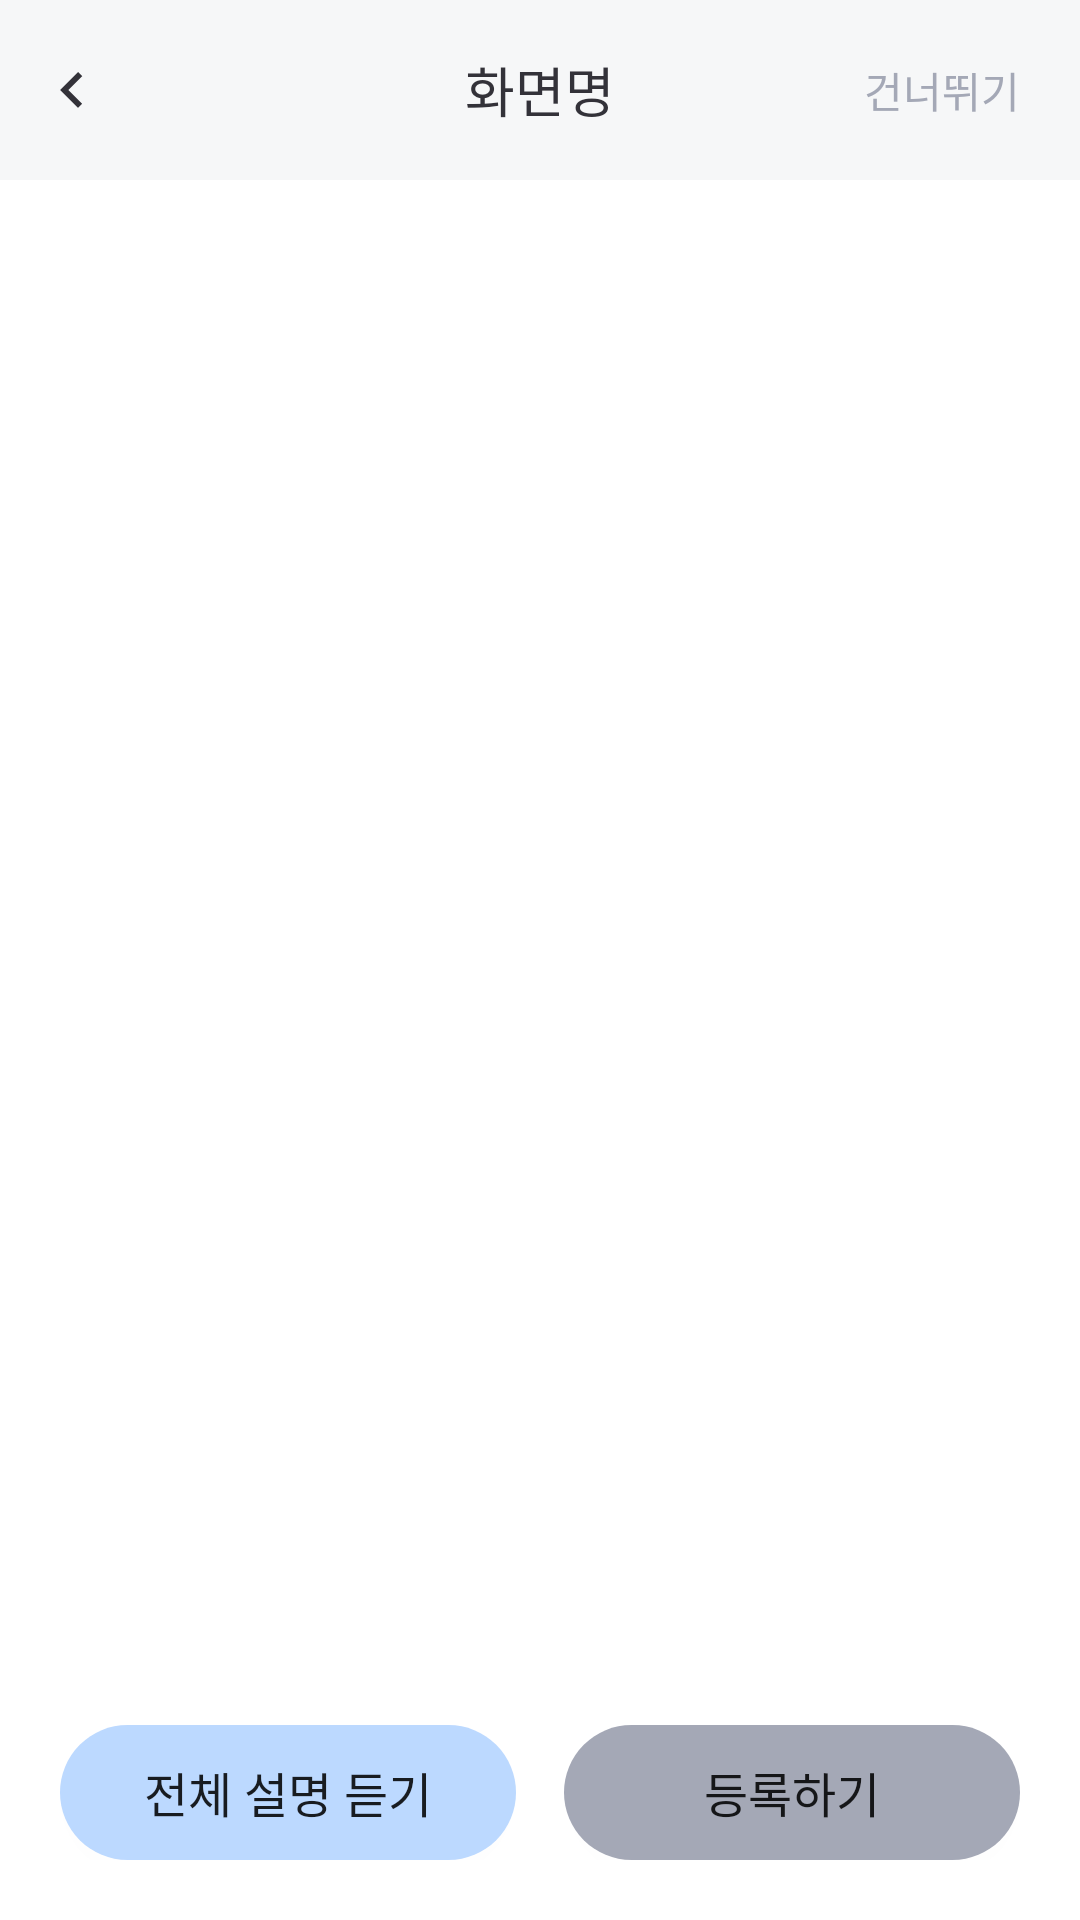

Screen size 1080px x 1920px. Icon name, then its center in pixels as (x,y):
뒤로가기: (71,90)
